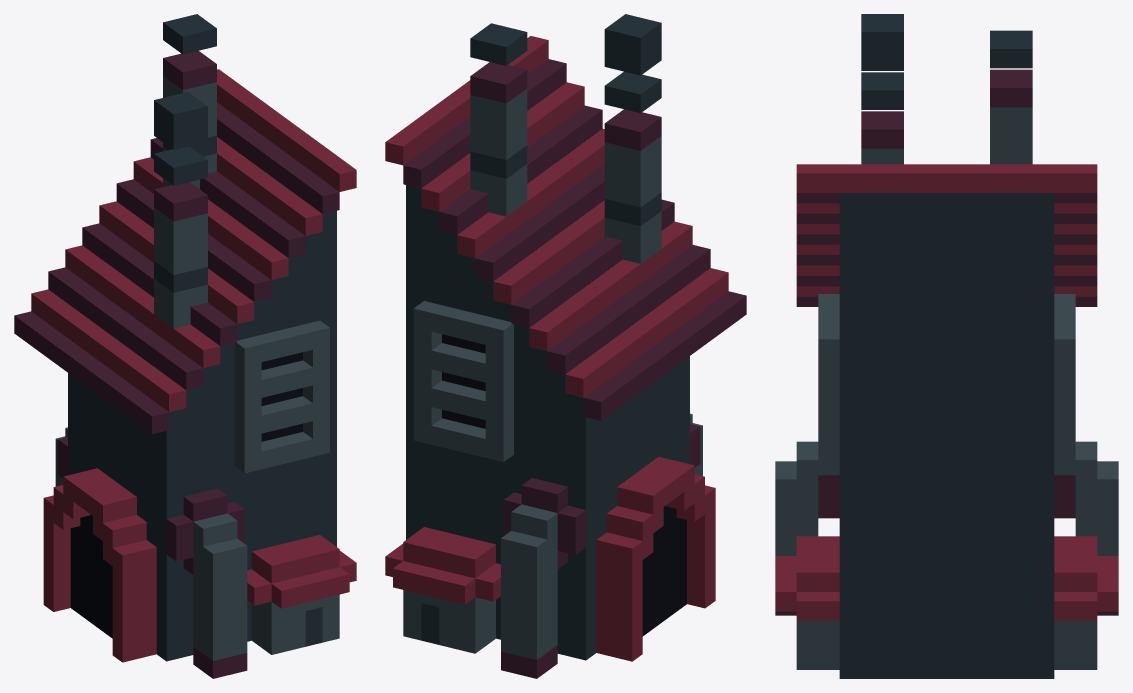
The model's file is BuildingFactoryRed.obj.
3 views of the same model, side by side, from view 1: azimuth 30°, elevation 25°; view 2: azimuth 150°, elevation 25°; view 3: azimuth 270°, elevation 25° (orthographic). The views are drawn at different scales.
Bounding box in the file's own units: 1.2 × 3.1 × 1.6.
1 material, 1 textured.
